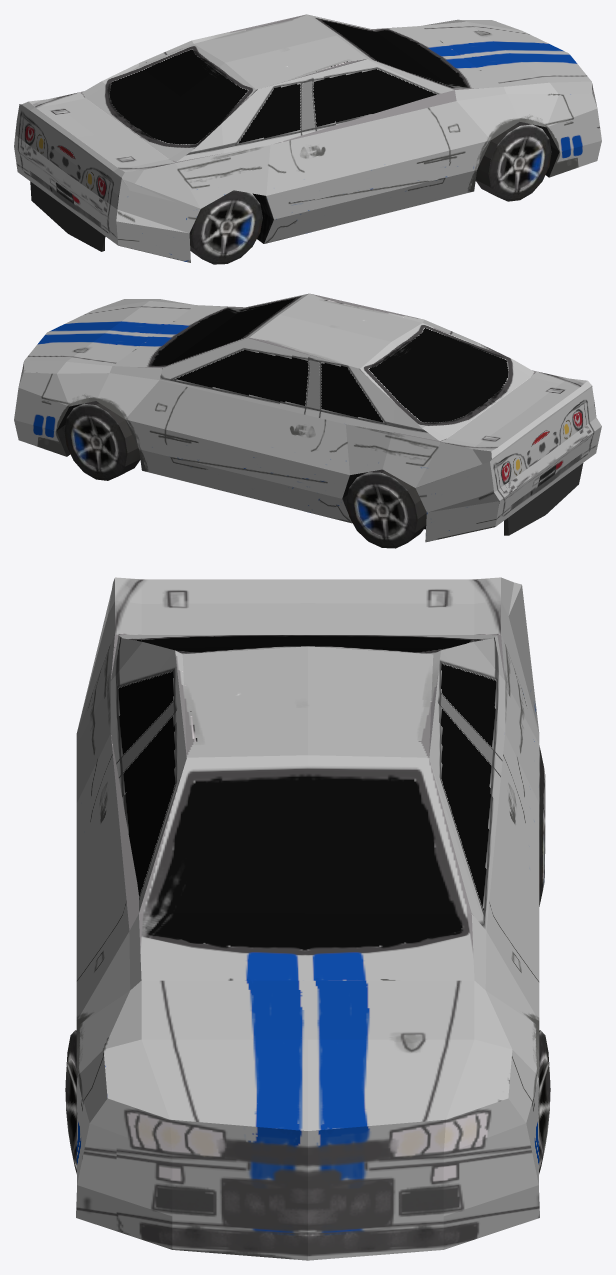
File: gtr.glb
3 renders of one model, top to bottom at view 1: azimuth 30°, elevation 25°; view 2: azimuth 150°, elevation 25°; view 3: azimuth 270°, elevation 25°, orthographic. The views are drawn at different scales.
Visible parts, largest first — view 1: Cube, Cube.004, Cube.002; view 2: Cube, Cube.003, Cube.001; view 3: Cube, Cube.001, Cube.004, Cube.003.
Boxes of the visible parts, x1,y1,x2,y2 form: Cube: (14,14,601,262); Cube.004: (475,122,551,201); Cube.002: (189,190,262,264); Cube: (14,293,601,542); Cube.003: (346,469,426,548); Cube.001: (64,401,140,480); Cube: (76,577,539,1260); Cube.001: (539,1030,550,1173); Cube.004: (65,1030,76,1173); Cube.003: (539,745,545,906).
Bounding box in the file's own units: 5 × 1.45 × 2.07.
Materials: 3 (2 with a texture image).
